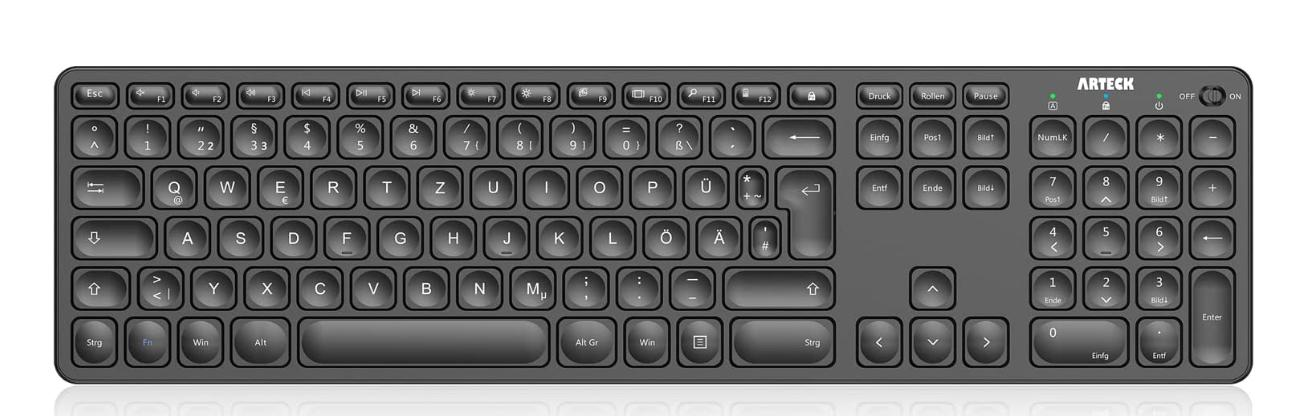0: (602, 113, 648, 156)
1: (124, 113, 170, 156)
2: (177, 112, 224, 156)
3: (230, 113, 277, 156)
4: (284, 113, 329, 156)
5: (337, 113, 383, 155)
6: (390, 113, 436, 156)
7: (443, 113, 489, 156)
8: (496, 113, 543, 156)
9: (549, 113, 596, 156)
a: (164, 213, 210, 257)
accent: (709, 113, 754, 156)
ae: (695, 213, 742, 258)
alt-left: (228, 316, 291, 369)
altgr-right: (556, 314, 617, 363)
b: (402, 264, 450, 308)
c: (296, 264, 343, 308)
caret: (70, 113, 117, 156)
comma: (562, 264, 608, 308)
d: (271, 213, 316, 258)
del: (762, 113, 834, 157)
e: (257, 163, 303, 207)
enter: (774, 161, 834, 256)
f: (324, 213, 369, 258)
g: (376, 213, 423, 257)
h: (430, 214, 476, 258)
hash: (748, 213, 781, 258)
i: (523, 163, 568, 207)
j: (483, 213, 529, 258)
k: (536, 213, 582, 258)
keyboard: (48, 61, 1259, 388)
l: (590, 213, 634, 258)
less: (136, 263, 184, 308)
m: (509, 264, 556, 308)
minus: (668, 265, 714, 308)
n: (456, 264, 503, 308)
o: (576, 163, 622, 207)
oe: (642, 213, 688, 258)
p: (629, 163, 675, 207)
plus: (735, 164, 766, 207)
point: (615, 265, 661, 308)
q: (150, 163, 197, 207)
r: (310, 163, 356, 207)
s: (217, 213, 263, 258)
shift-left: (69, 264, 129, 308)
shift-lock: (69, 214, 157, 258)
shift-right: (721, 264, 834, 308)
space: (297, 313, 549, 371)
ss: (656, 113, 702, 156)
strg-left: (70, 316, 118, 367)
strg-right: (729, 314, 839, 367)
t: (363, 162, 409, 207)
tab: (69, 163, 142, 207)
u: (470, 162, 516, 208)
ue: (682, 163, 729, 207)
v: (349, 264, 396, 308)
w: (204, 163, 250, 207)
x: (243, 264, 290, 308)
y: (190, 264, 236, 308)
z: (416, 163, 463, 208)
